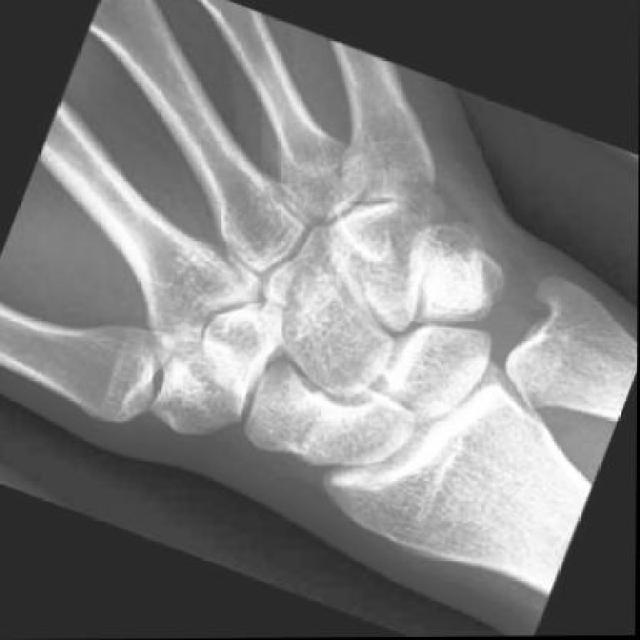Fracture: (288, 388, 360, 472)
